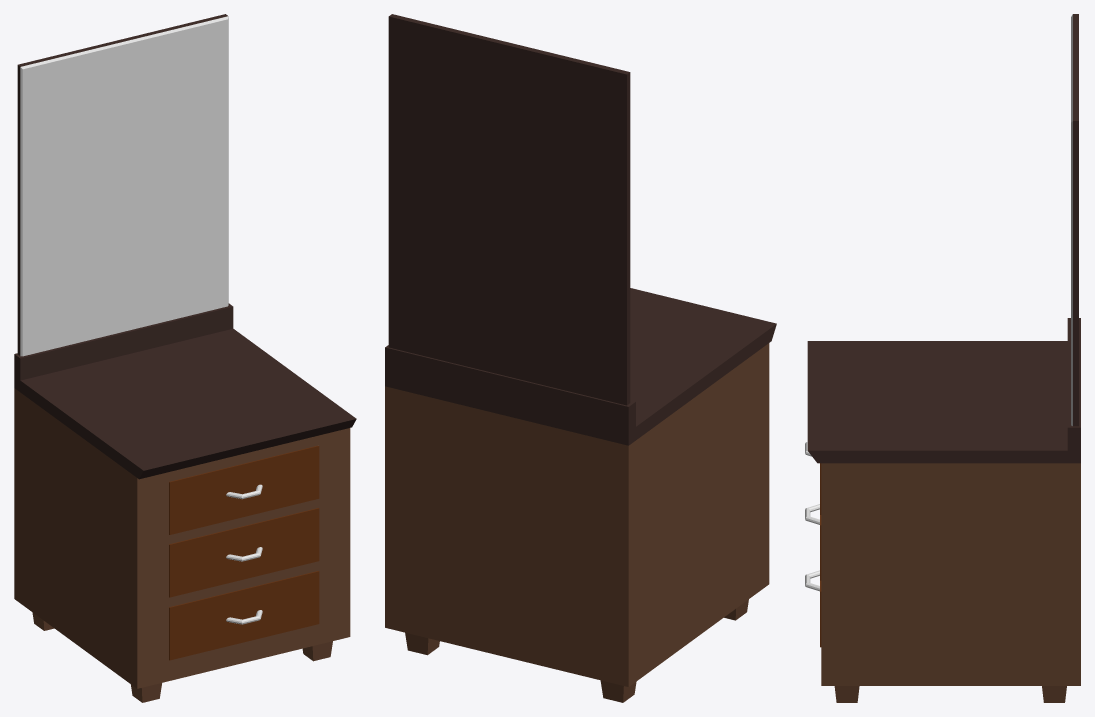
The model's file is Dresser.fbx.
3 views of the same model, side by side, from view 1: azimuth 30°, elevation 25°; view 2: azimuth 150°, elevation 25°; view 3: azimuth 270°, elevation 25° (orthographic). The views are drawn at different scales.
Parts seen in each view (by area): view 1: Cubo, Cubo.004, Cubo.002, Cubo.003, Cubo.001; view 2: Cubo, Cubo.004; view 3: Cubo, Cubo.004.
Boxes of the visible parts, bbox=[...] form: Cubo: bbox=[14, 303, 356, 702]; Cubo.004: bbox=[17, 14, 228, 356]; Cubo.002: bbox=[169, 508, 319, 597]; Cubo.003: bbox=[169, 571, 319, 660]; Cubo.001: bbox=[169, 445, 319, 534]; Cubo: bbox=[385, 288, 776, 702]; Cubo.004: bbox=[388, 14, 630, 405]; Cubo: bbox=[807, 318, 1080, 702]; Cubo.004: bbox=[1071, 14, 1078, 426].
Bounding box in the file's own units: 200 × 213 × 499.
